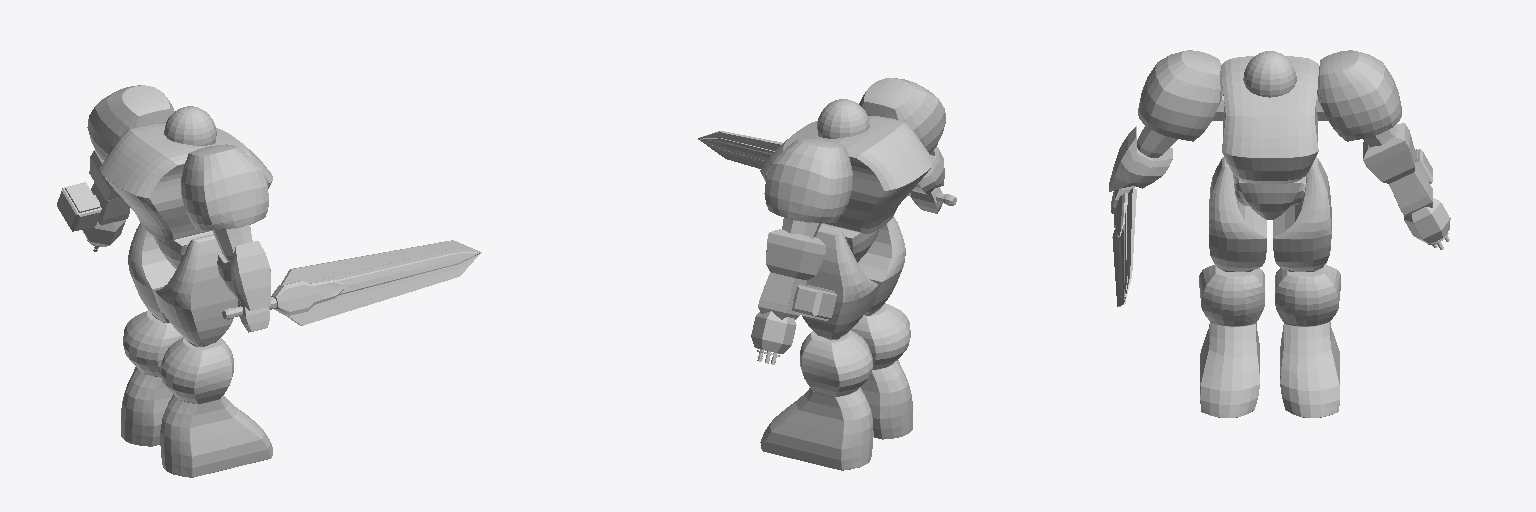
Rendered from Tank_noShield.obj.
The picture shows the model from 3 angles: view 1: azimuth 30°, elevation 25°; view 2: azimuth 150°, elevation 25°; view 3: azimuth 270°, elevation 25°; orthographic projection.
Visible parts, largest first — view 1: polySurface305; view 2: polySurface305; view 3: polySurface305.
Part boxes in pixels (x1,y1,x2,y2): polySurface305: (57,85,481,477); polySurface305: (698,78,956,470); polySurface305: (1109,50,1450,417).
Bounding box in the file's own units: 4.17 × 4.52 × 4.16.